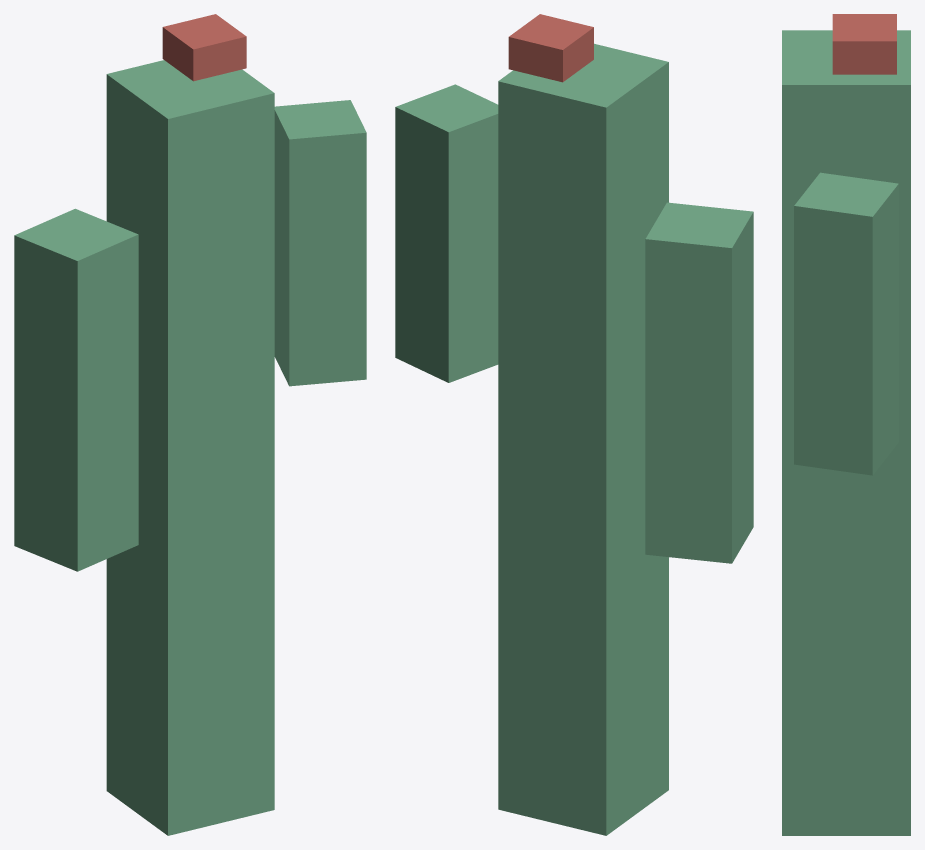
The model's file is cactus_prop.glb.
3 views of the same model, side by side, from view 1: azimuth 30°, elevation 25°; view 2: azimuth 150°, elevation 25°; view 3: azimuth 270°, elevation 25° (orthographic). The views are drawn at different scales.
Parts seen in each view (by area): view 1: cactus_prop_cactus, cactus_prop_clothRed; view 2: cactus_prop_cactus, cactus_prop_clothRed; view 3: cactus_prop_cactus, cactus_prop_clothRed.
Part boxes in pixels (left/top/right/bottom): cactus_prop_cactus: left=14, top=60, right=366, bottom=835; cactus_prop_clothRed: left=162, top=14, right=246, bottom=81; cactus_prop_cactus: left=395, top=43, right=753, bottom=835; cactus_prop_clothRed: left=508, top=14, right=593, bottom=82; cactus_prop_cactus: left=782, top=30, right=910, bottom=835; cactus_prop_clothRed: left=832, top=14, right=896, bottom=74.
Bounding box in the file's own units: 0.8775 × 1.9 × 0.28.
